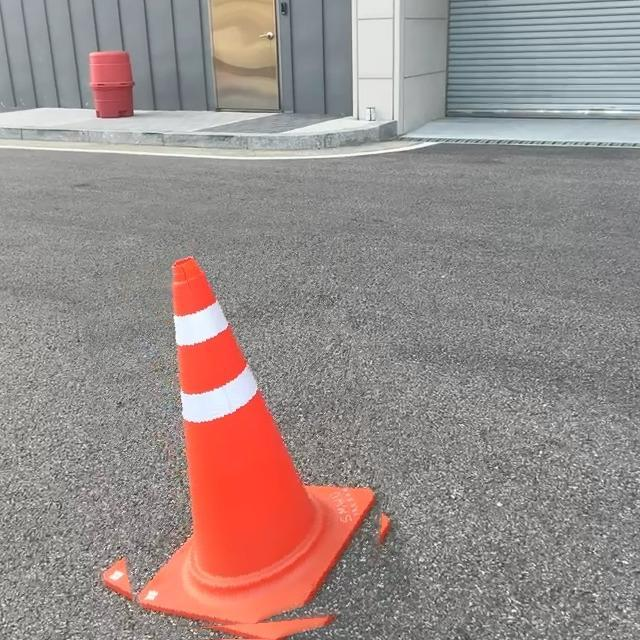fallen_object: (76, 249, 441, 640)
